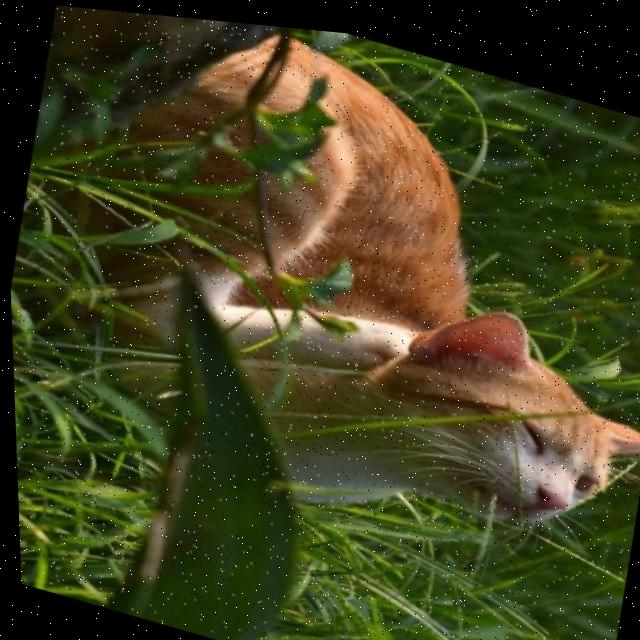Cats: (12, 1, 640, 640)
